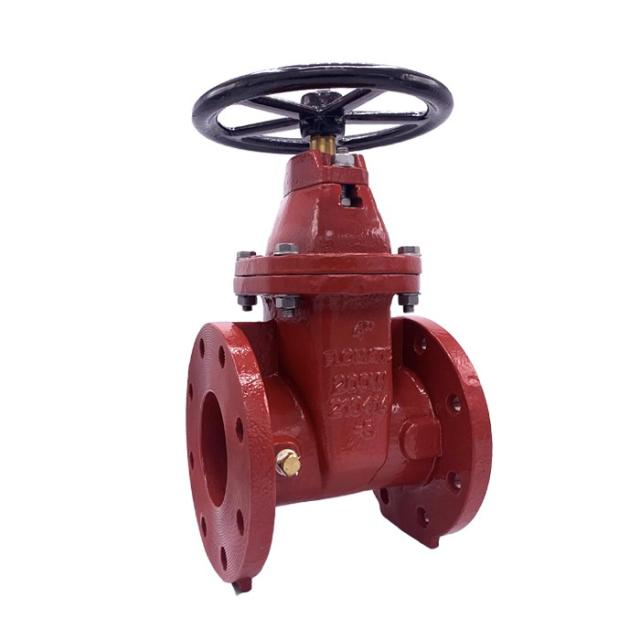Wheel Handle Valve Threaded: (189, 46, 469, 168)
